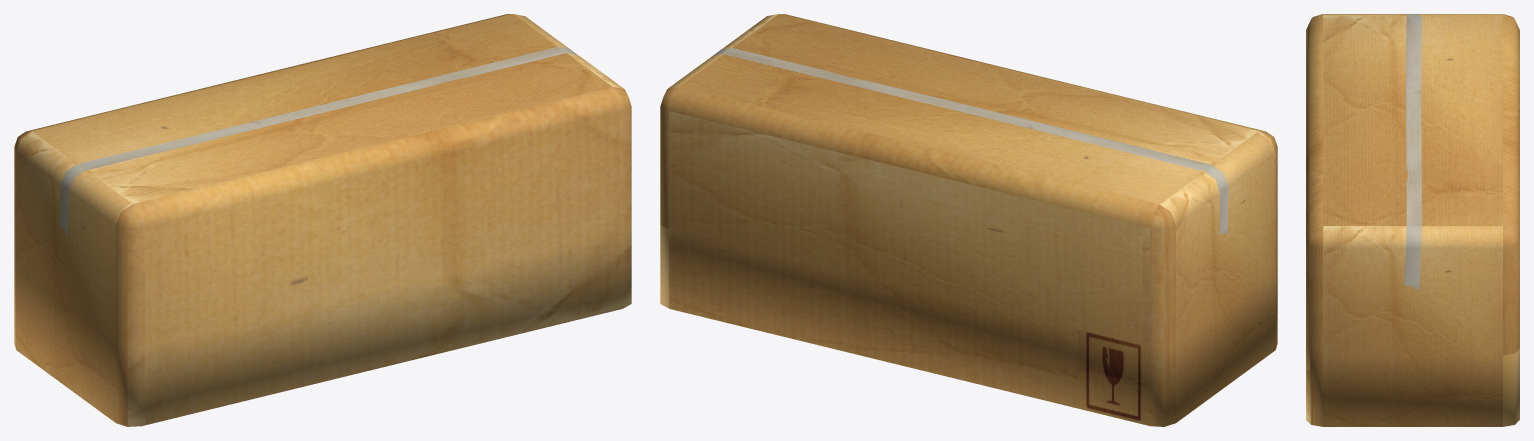
File: BoxLong.fbx
3 views of the same model, side by side, from view 1: azimuth 30°, elevation 25°; view 2: azimuth 150°, elevation 25°; view 3: azimuth 270°, elevation 25° (orthographic). The views are drawn at different scales.
Visible parts, largest first — view 1: Cube.001; view 2: Cube.001; view 3: Cube.001.
Part boxes in pixels (bbox=[...]): Cube.001: bbox=[14, 14, 631, 426]; Cube.001: bbox=[660, 14, 1277, 426]; Cube.001: bbox=[1306, 14, 1519, 426].
Bounding box in the file's own units: 500 × 200 × 200.
Materials: 1 (1 with a texture image).
